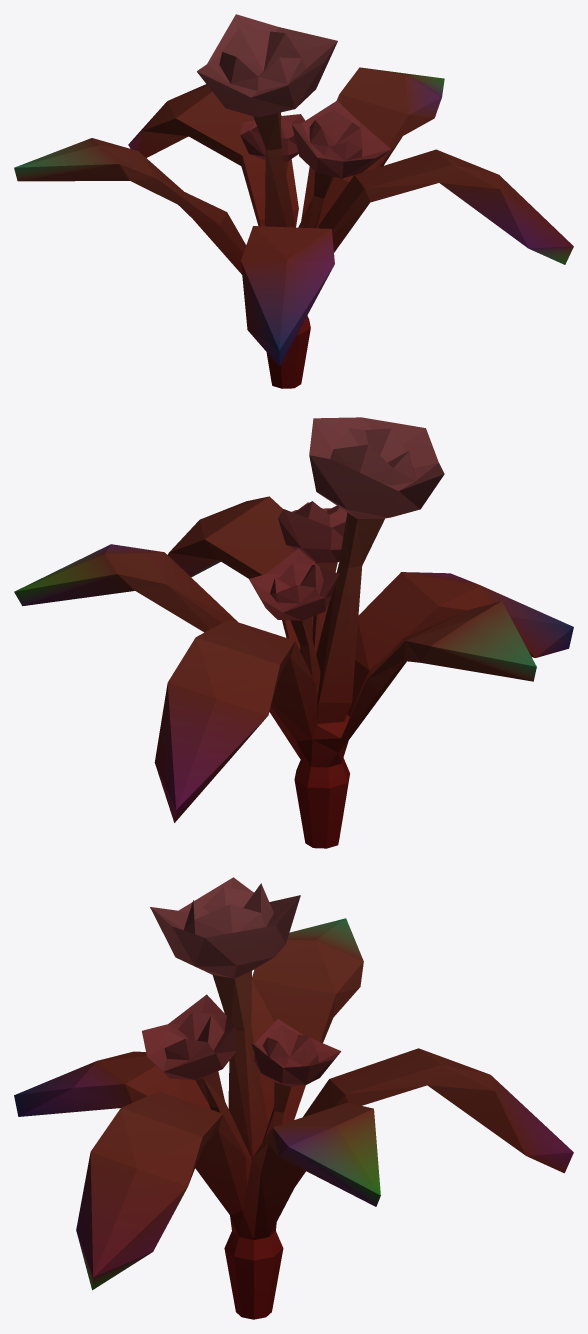
File: synty-plant-07.gltf
The picture shows the model from 3 angles, top to bottom: view 1: azimuth 30°, elevation 25°; view 2: azimuth 150°, elevation 25°; view 3: azimuth 270°, elevation 25°; orthographic projection. The views are drawn at different scales.
Visible parts, largest first — view 1: SM_Plant_07; view 2: SM_Plant_07; view 3: SM_Plant_07.
Part boxes in pixels (x1,y1,x2,y2): SM_Plant_07: (14, 14, 573, 388); SM_Plant_07: (14, 417, 573, 848); SM_Plant_07: (14, 877, 573, 1319).
Bounding box in the file's own units: 0.99 × 0.7703 × 0.9649.
1 material, 1 textured.
